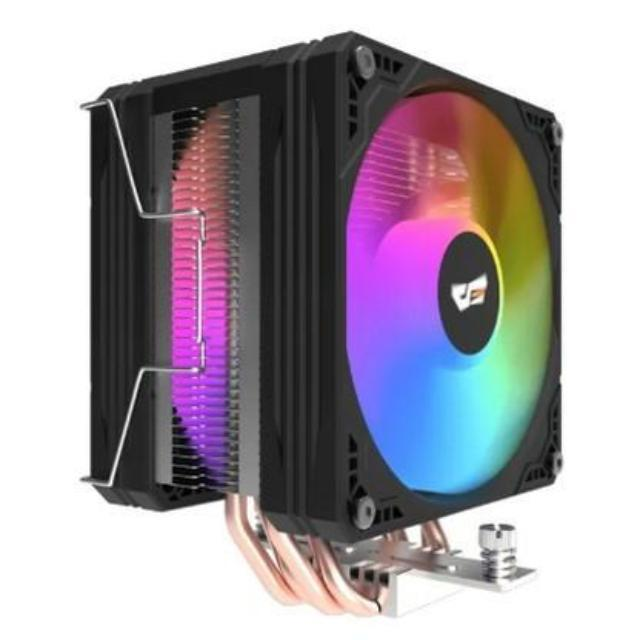CPU_Fan: (82, 31, 566, 609)
